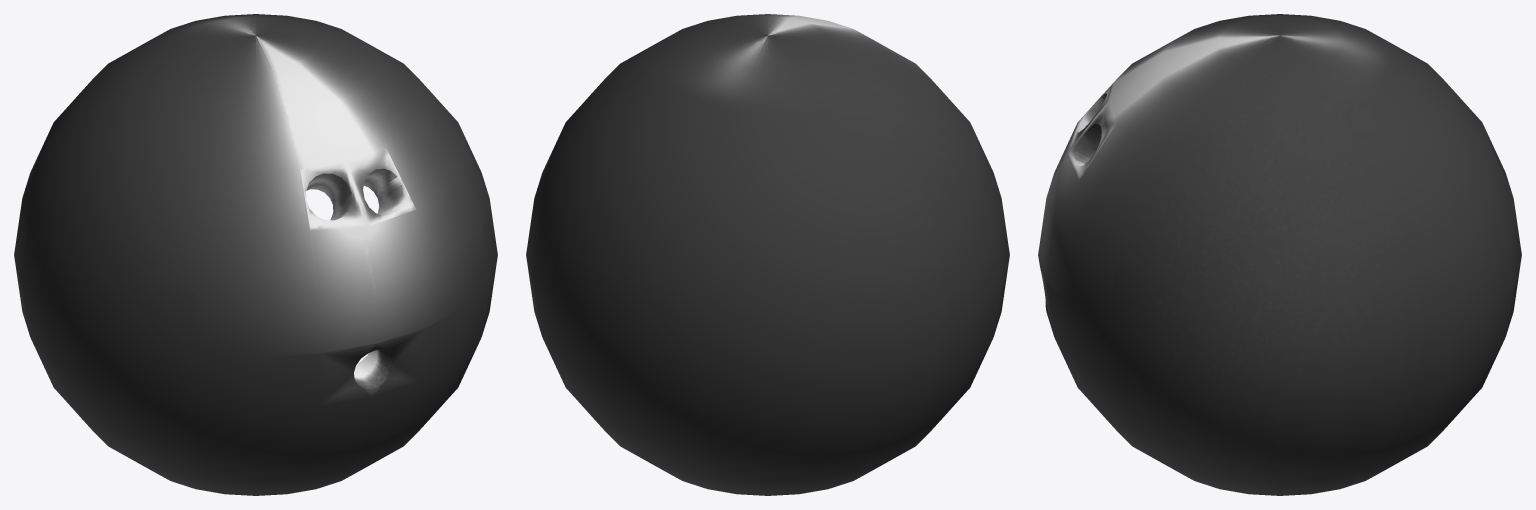
The model's file is BowlingBall.gltf.
3 renders of one model, left to right at view 1: azimuth 30°, elevation 25°; view 2: azimuth 150°, elevation 25°; view 3: azimuth 270°, elevation 25°, orthographic.
Parts seen in each view (by area): view 1: Sphere.003; view 2: Sphere.003; view 3: Sphere.003.
Part boxes in pixels (left/top/right/bottom): Sphere.003: left=14, top=14, right=497, bottom=495; Sphere.003: left=526, top=14, right=1009, bottom=495; Sphere.003: left=1038, top=14, right=1521, bottom=495.
Bounding box in the file's own units: 2 × 2 × 2.
Materials: 1 (1 with a texture image).
